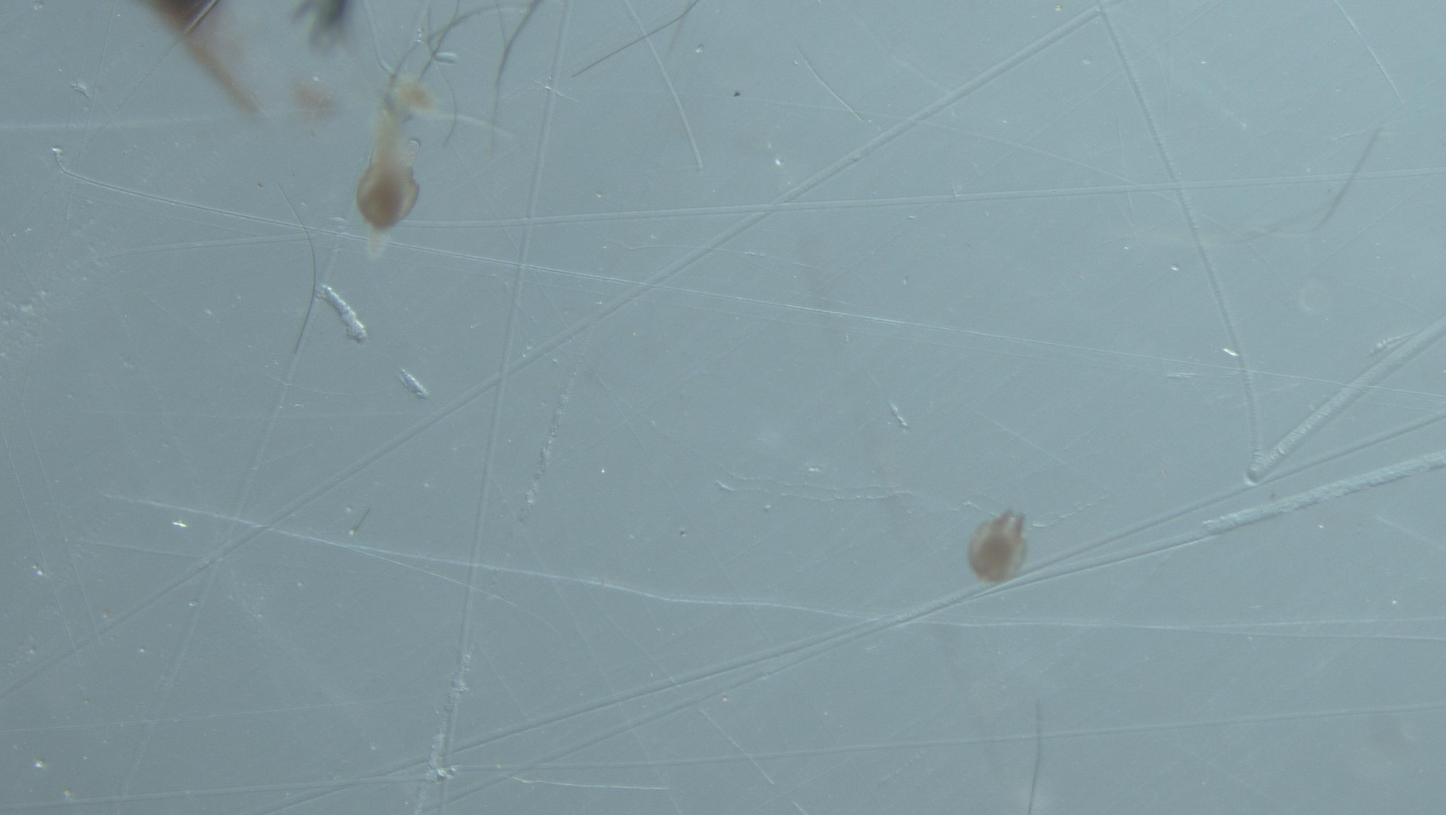live: (356, 151, 417, 241), (357, 153, 418, 233), (968, 511, 1026, 585), (968, 512, 1026, 584)
